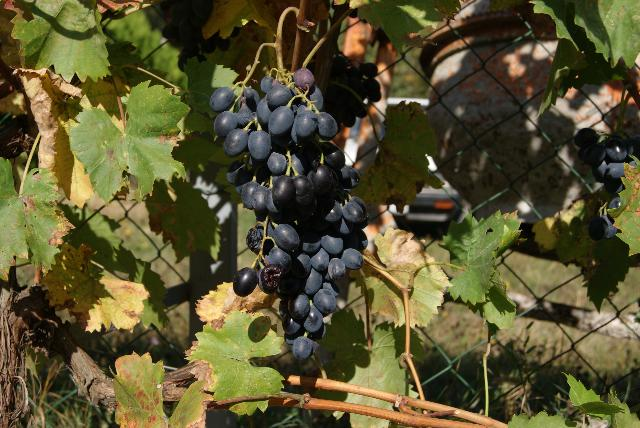grapes: (210, 69, 338, 295), (278, 146, 369, 360)
